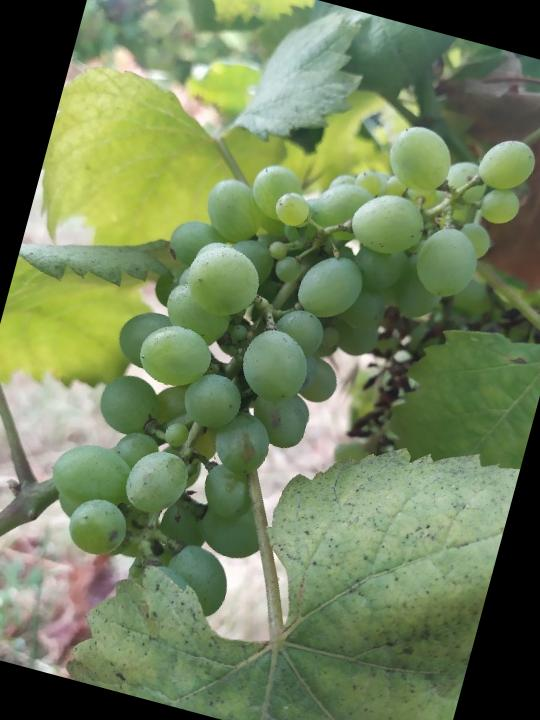grape: (23, 43, 540, 670)
